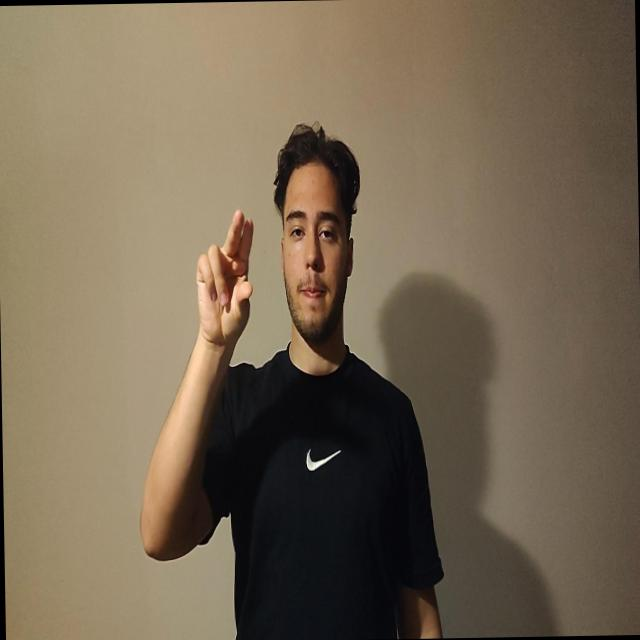no: (194, 207, 255, 348)
